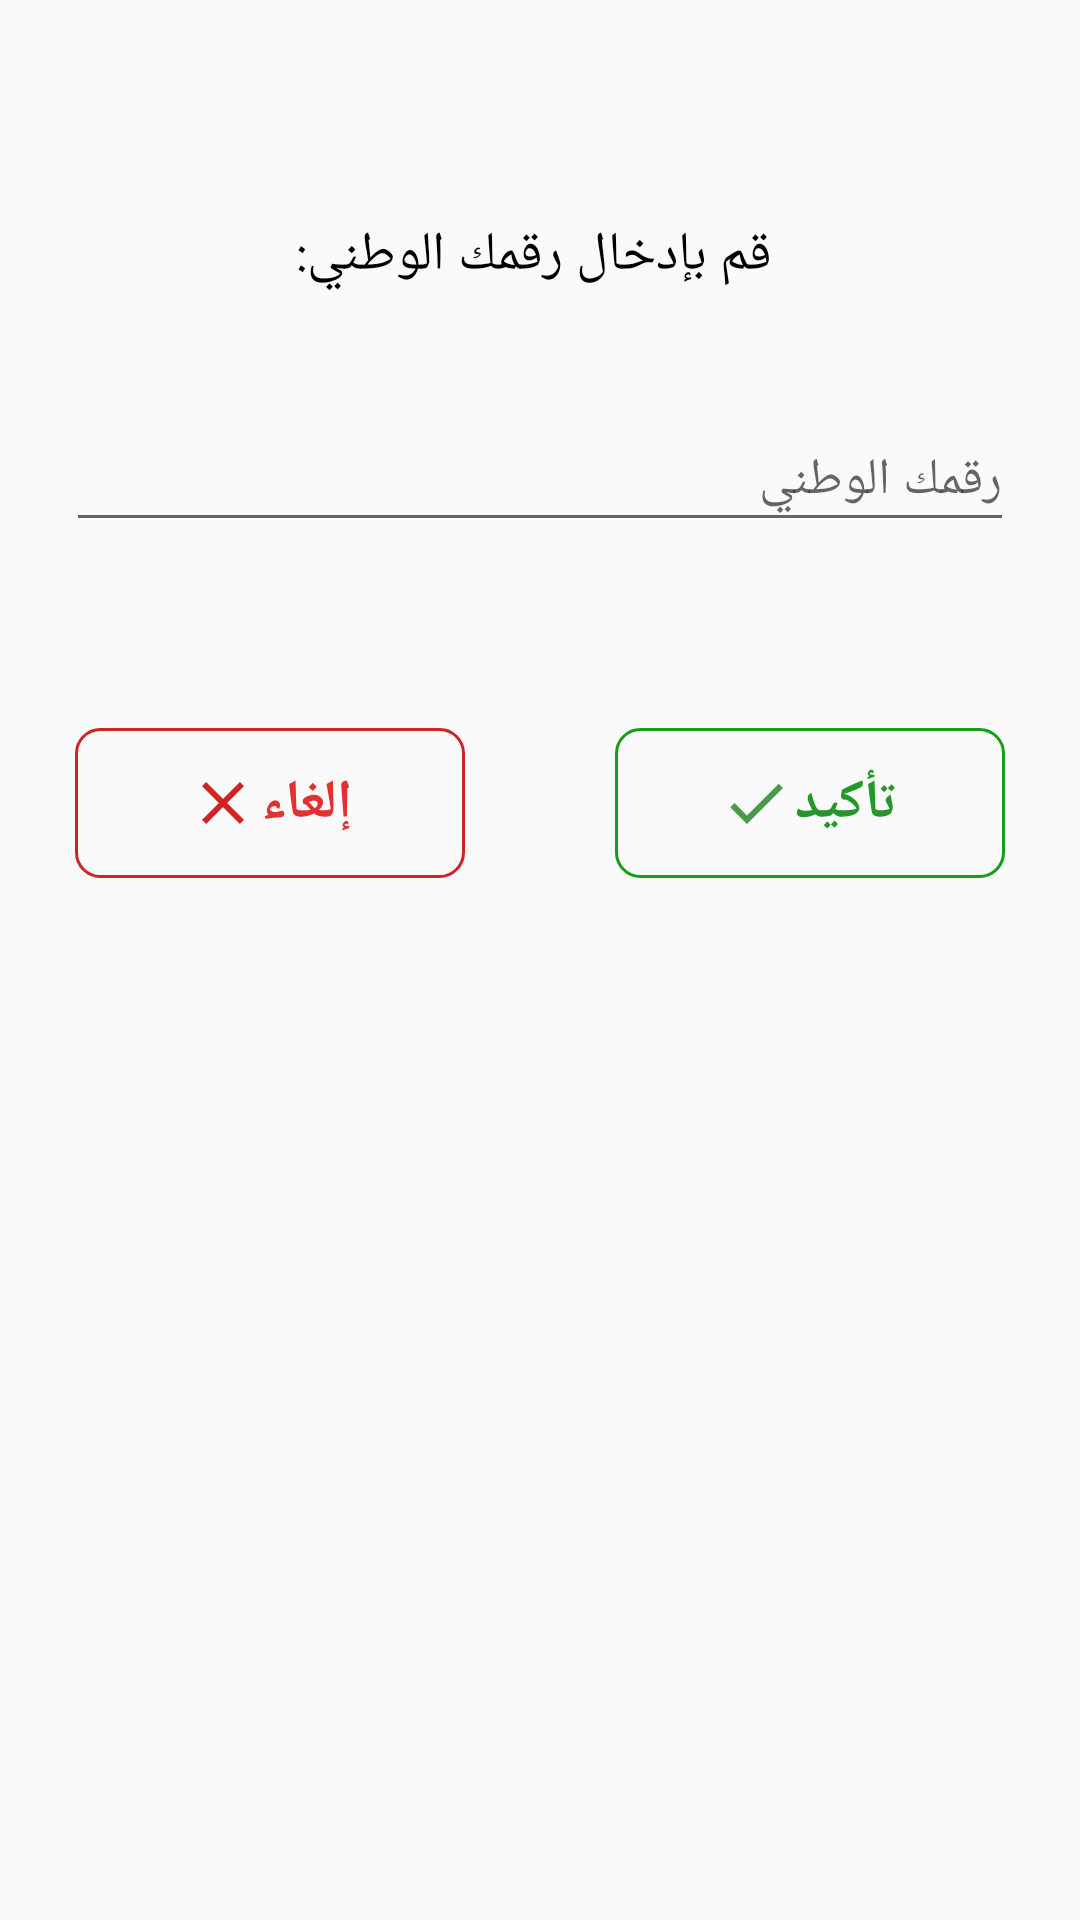

Named icons in this screenshot (1080x1920) and their bounding boxes, [x1, y1, x2, y2]:
close: [202, 782, 244, 824]
